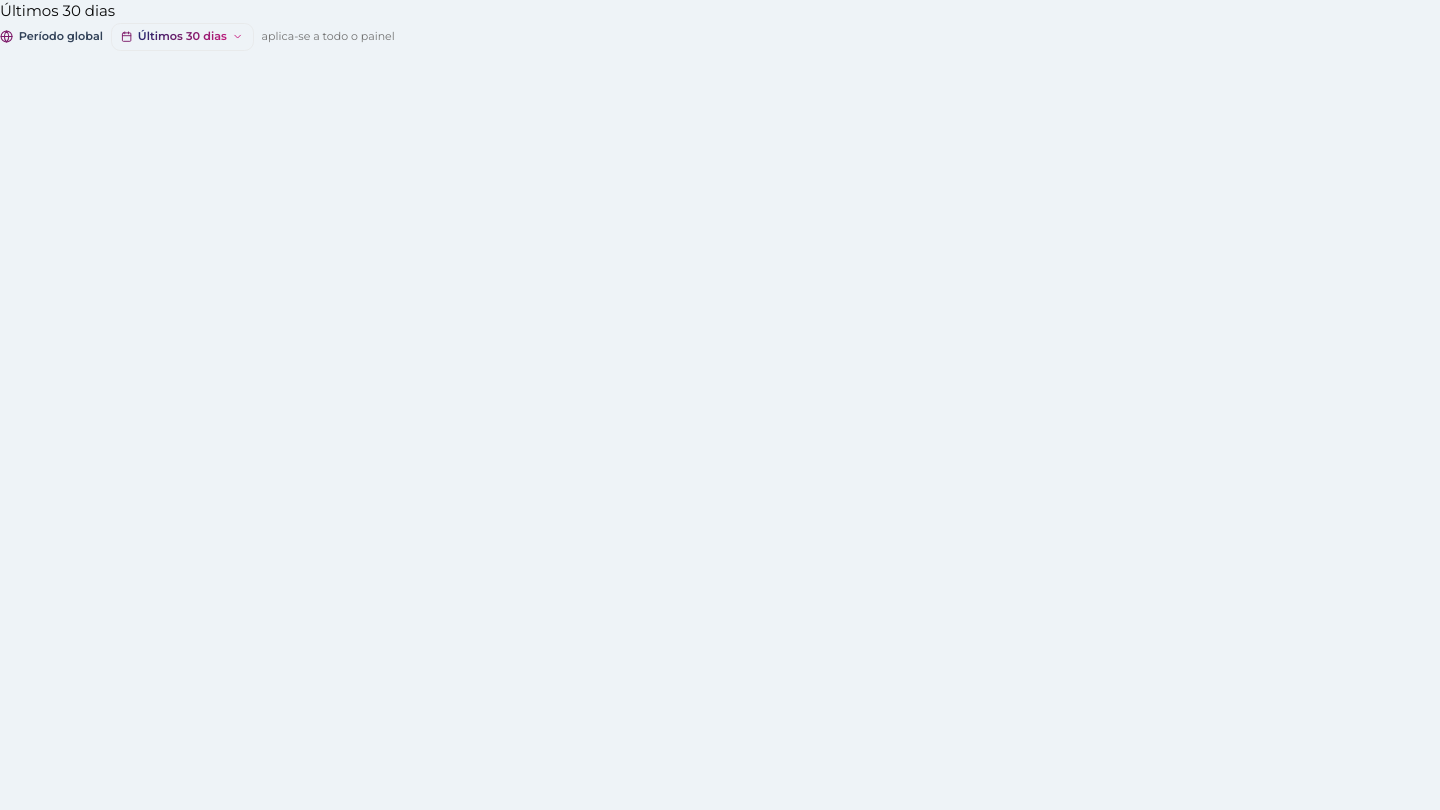
GlobalPeriodControl — Período global do dashboard › (f) preserva o comportamento anterior: 'Últimos 90 dias', intervalo personalizado e opção 'custom' fora da lista de presets
Later steps or results of the test are not shown.
Click the button "Últimos 30 dias" at (182, 37), box x1=111 y1=22 x2=254 y2=51
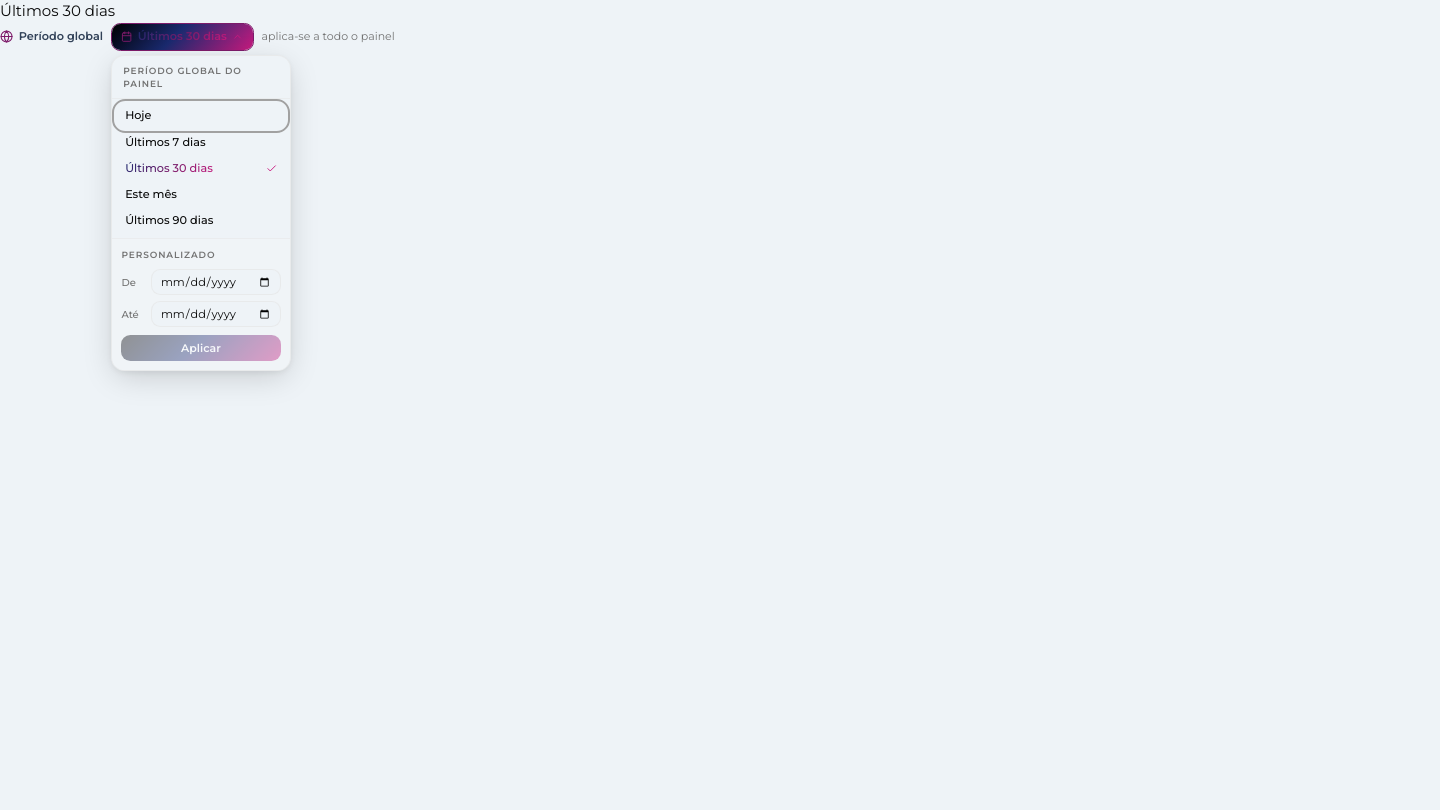
Result: the button "Últimos 90 dias" is shown at x1=125 y1=213 x2=213 y2=228
Note: atalho "Últimos 90 dias" continua existindo e chamando o handler do dashboard
Click the button "Últimos 90 dias" at (201, 221), box x1=116 y1=208 x2=286 y2=234
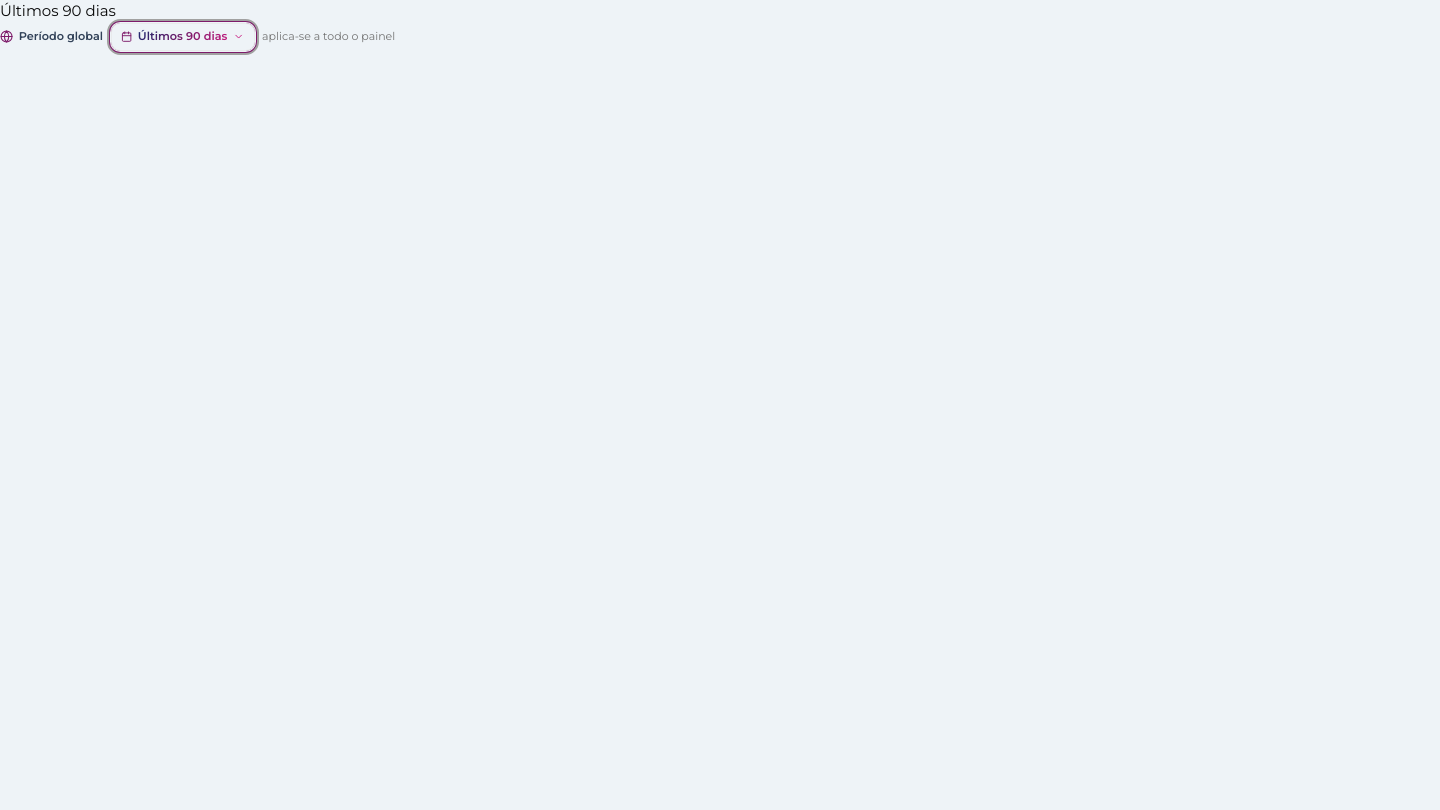
Result: the text with test id "effective-period" reads "Últimos 90 dias" at x1=0 y1=1 x2=116 y2=20
Note: intervalo personalizado: "Aplicar" só habilita com as duas datas
Click the button "Últimos 90 dias" at (183, 37), box x1=111 y1=22 x2=255 y2=51
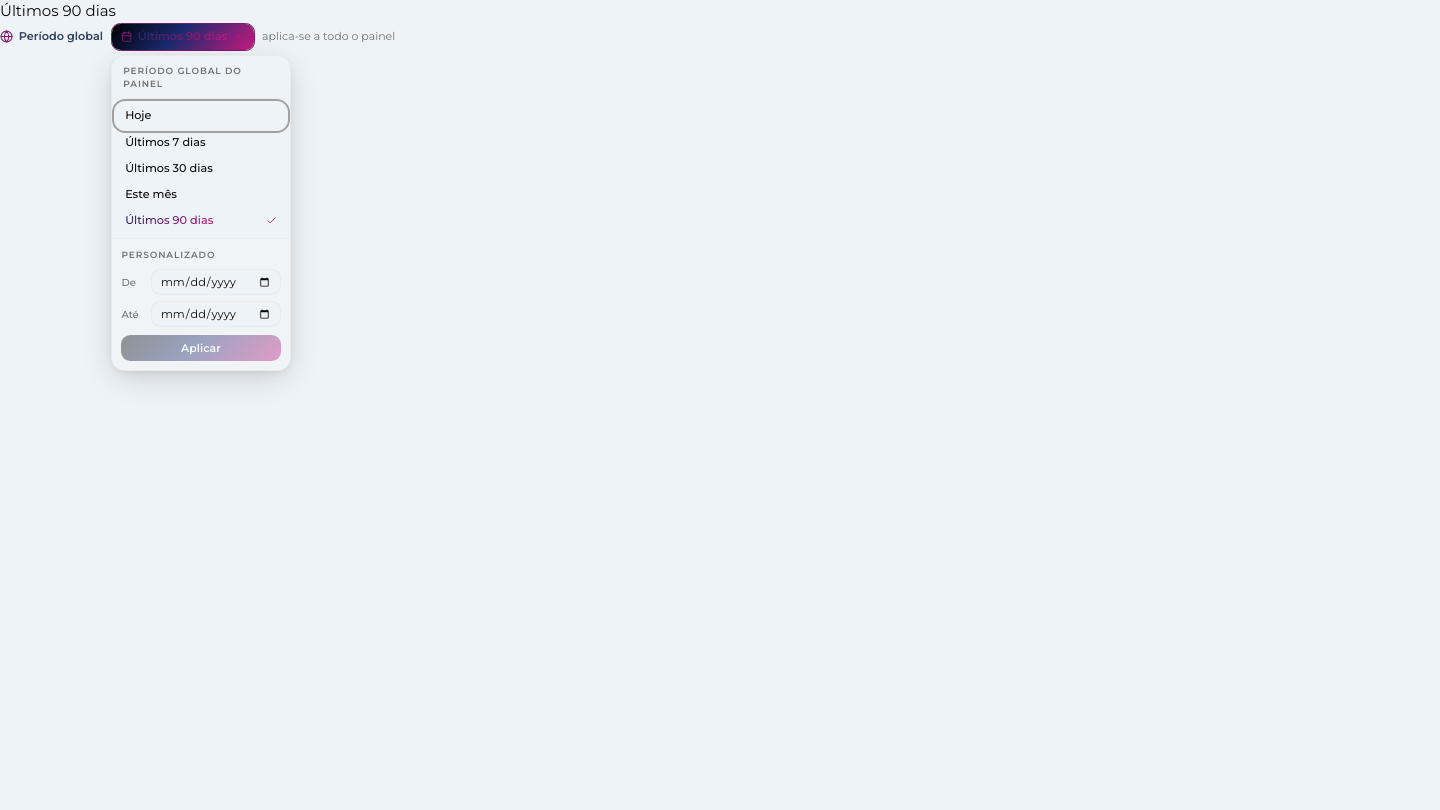
Result: the button "Aplicar" is disabled at x1=121 y1=335 x2=281 y2=361
Type "2026-01-01" into the date field named "Data inicial do período global" at (216, 282), box x1=151 y1=269 x2=281 y2=295
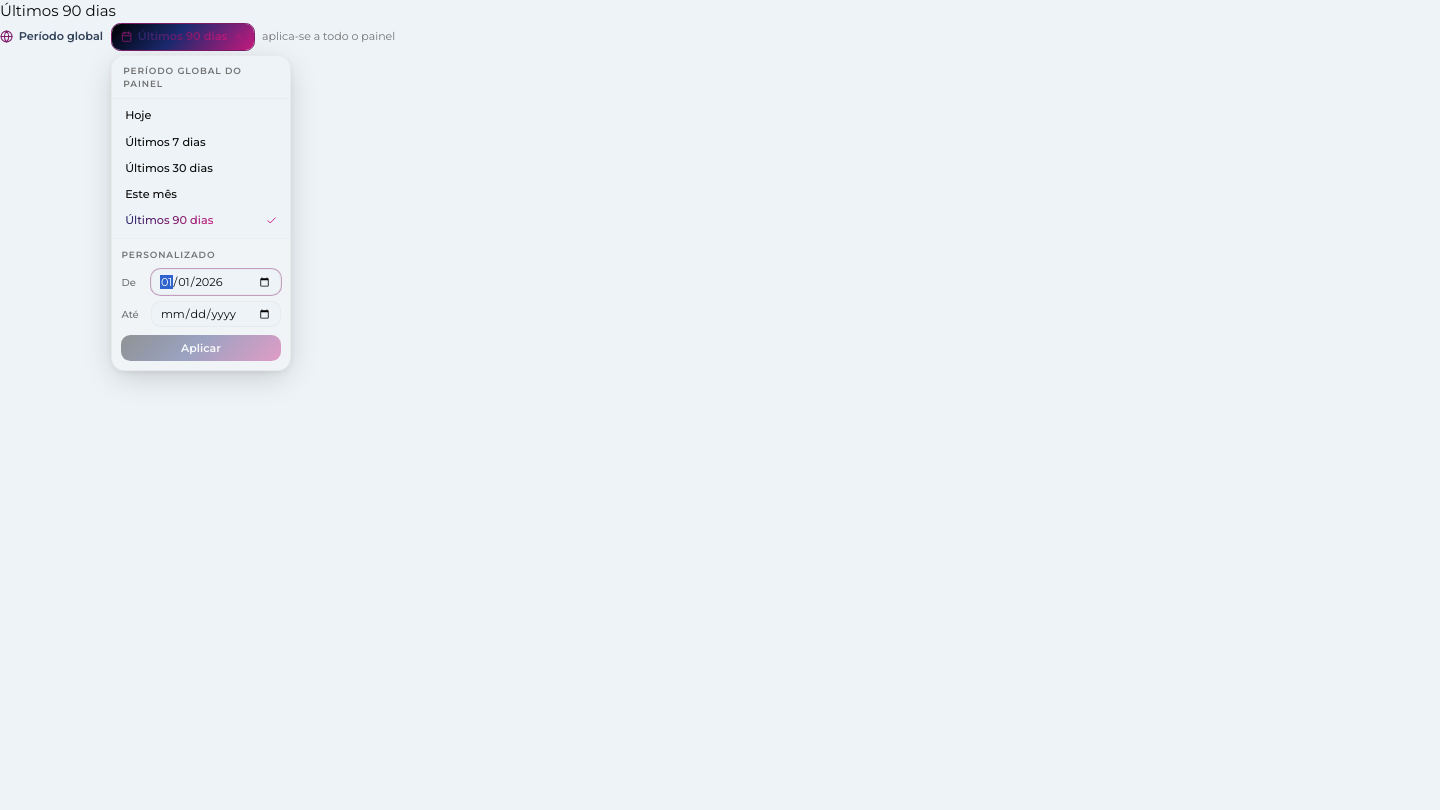
Type "2026-01-31" into the date field named "Data final do período global" at (216, 314), box x1=151 y1=301 x2=281 y2=327
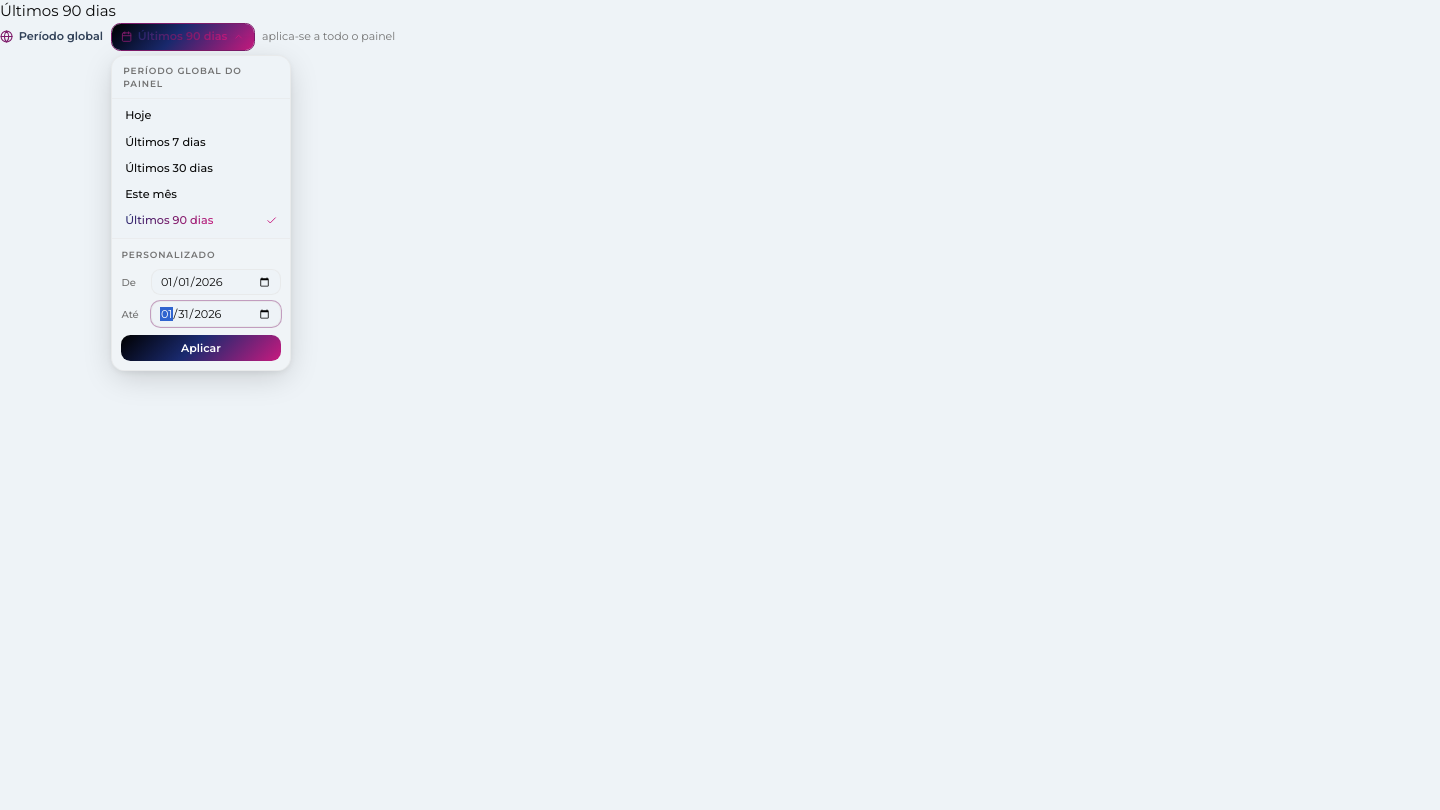
Result: the button "Aplicar" is enabled at x1=121 y1=335 x2=281 y2=361
